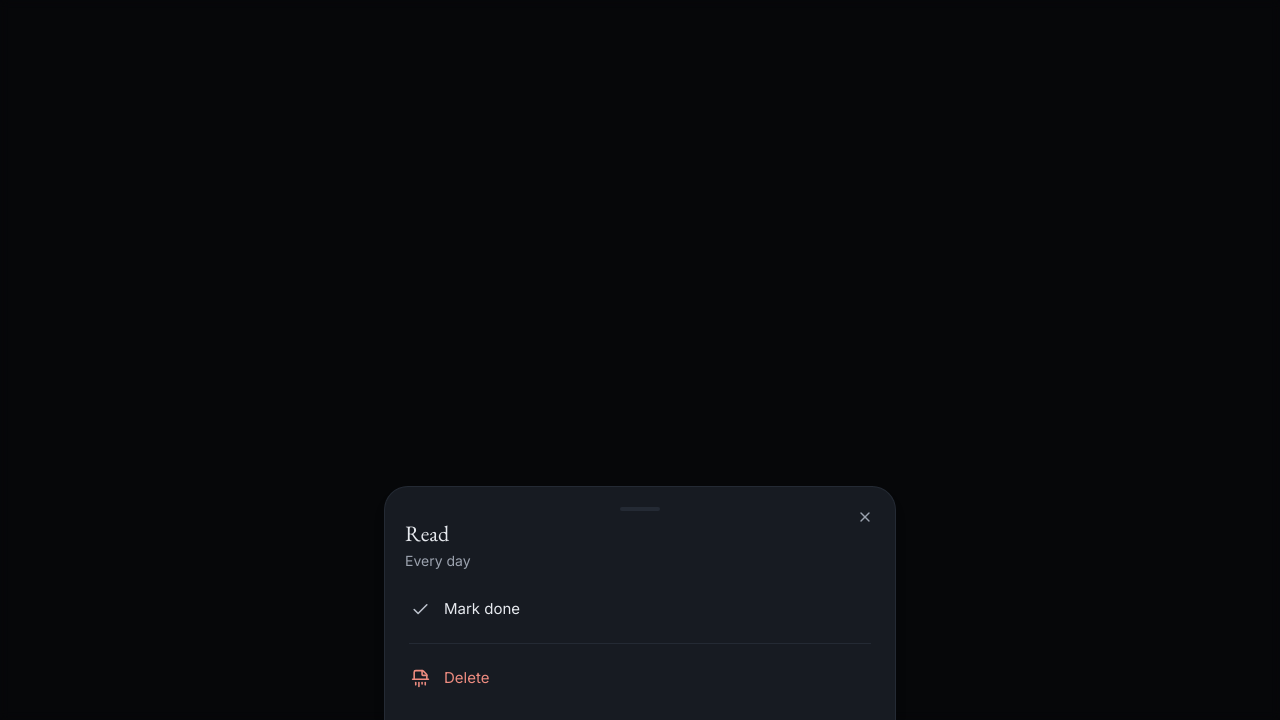
Test: ActionSheet › asks for a second tap before a destructive action
Click the button "Delete".
click(467, 677)  # box [397,652,883,704]
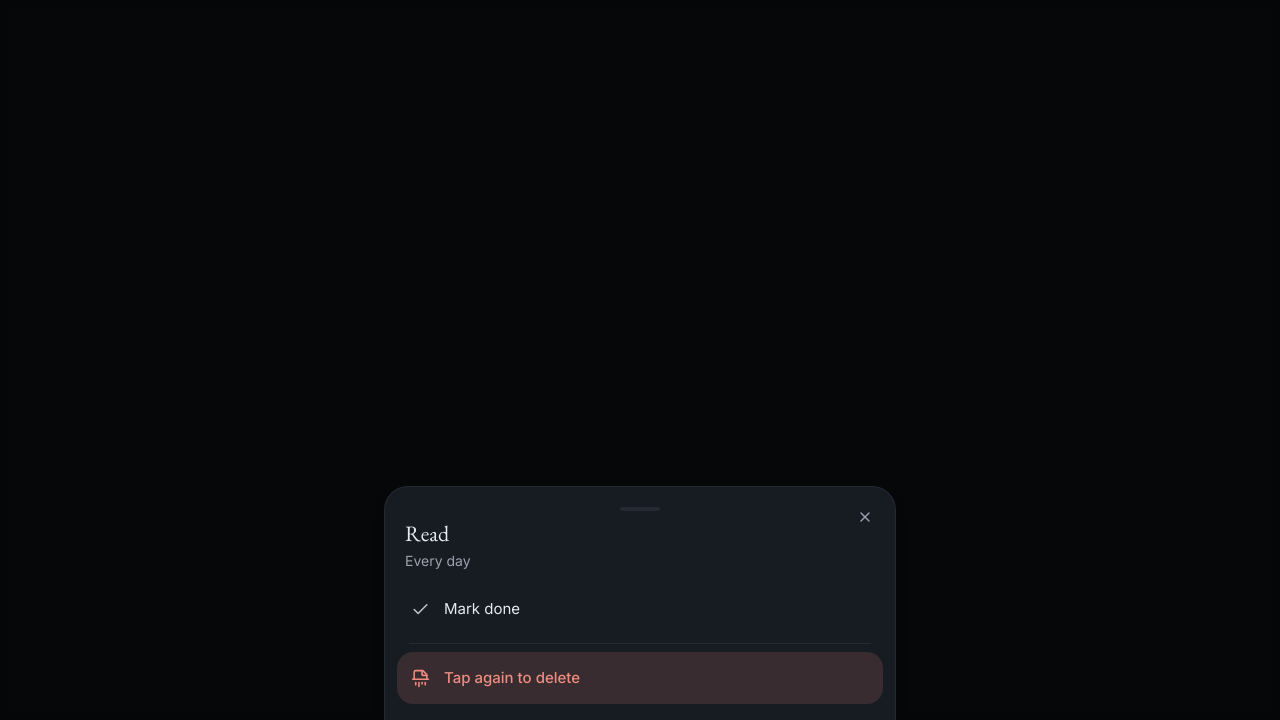
Result: the button "Tap again to delete" is shown at [397,652,883,704]
